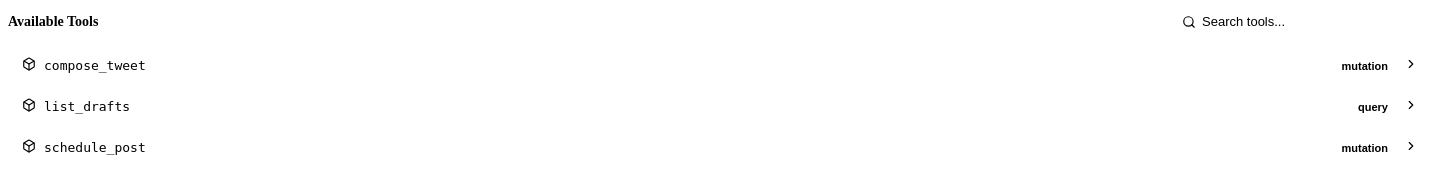
Test: McpToolBrowser › shows no-match message when search finds nothing
Step 1. Type "zzznomatch" into the field with class "search" → (1302, 22), box [1172,8,1432,35]
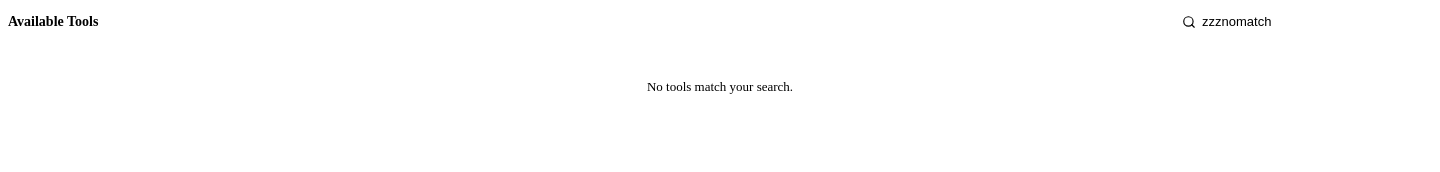
Expected: the text "No tools match your search" is shown, [647,79,793,94]
